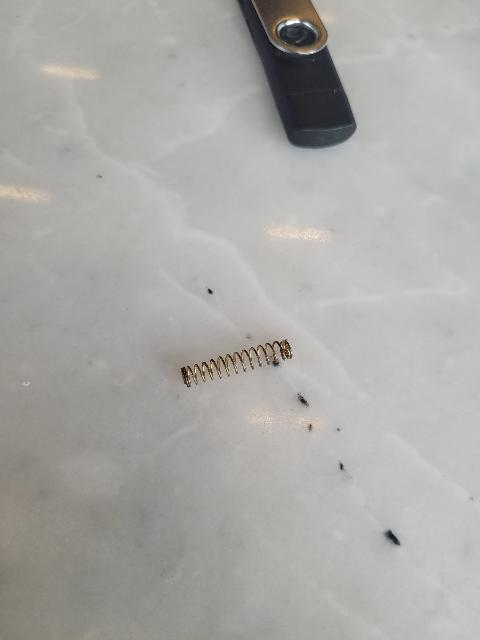Metal: (163, 335, 306, 400)
